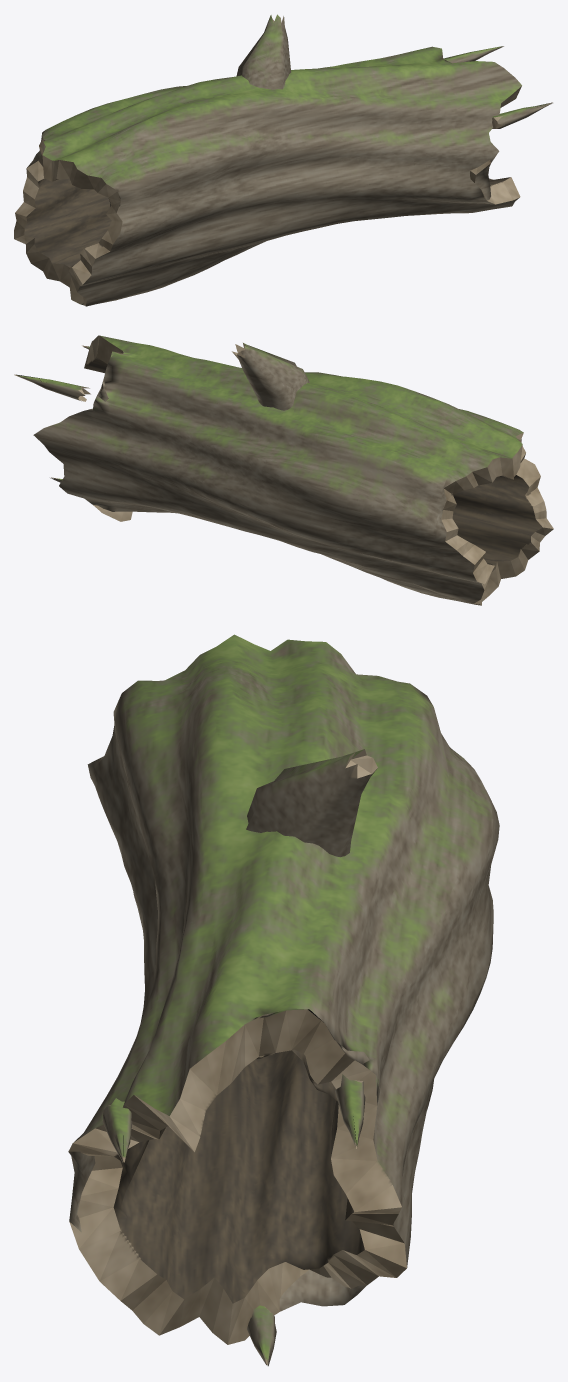
File: 12_Hollow_Log.glb
3 renders of one model, top to bottom at view 1: azimuth 30°, elevation 25°; view 2: azimuth 150°, elevation 25°; view 3: azimuth 270°, elevation 25°, orthographic. The views are drawn at different scales.
Parts seen in each view (by area): view 1: 12_Hollow_Log_Body; view 2: 12_Hollow_Log_Body; view 3: 12_Hollow_Log_Body.
Part boxes in pixels (left/top/right/bottom): 12_Hollow_Log_Body: left=14, top=14, right=552, bottom=306; 12_Hollow_Log_Body: left=14, top=335, right=553, bottom=605; 12_Hollow_Log_Body: left=68, top=634, right=499, bottom=1366.
Size of the model in its own units: 2.44 by 1.08 by 0.9494.
1 material, 1 textured.
